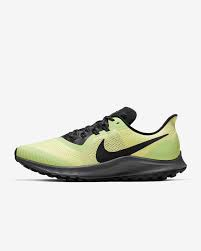nike: (94, 132, 171, 164)
